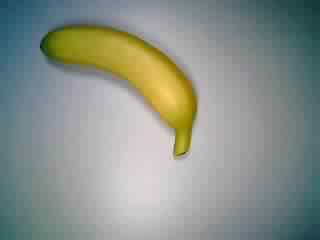banana: (37, 17, 203, 160)
